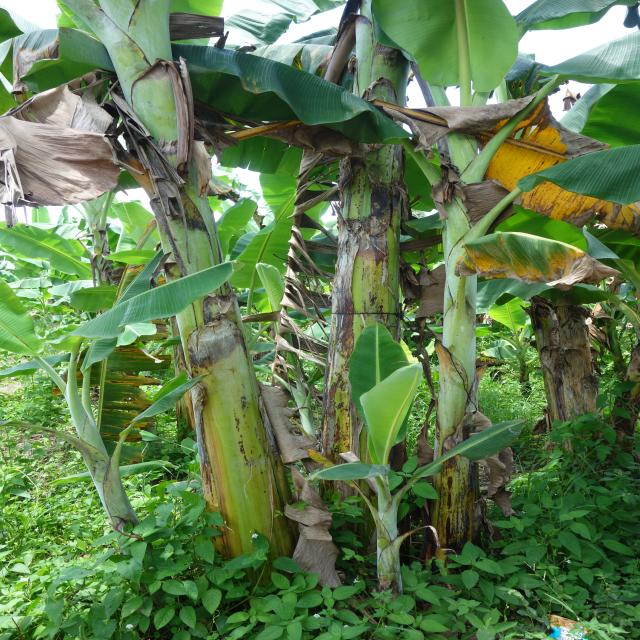Banana-plant: (101, 49, 281, 577), (316, 1, 408, 570), (418, 153, 488, 566)
